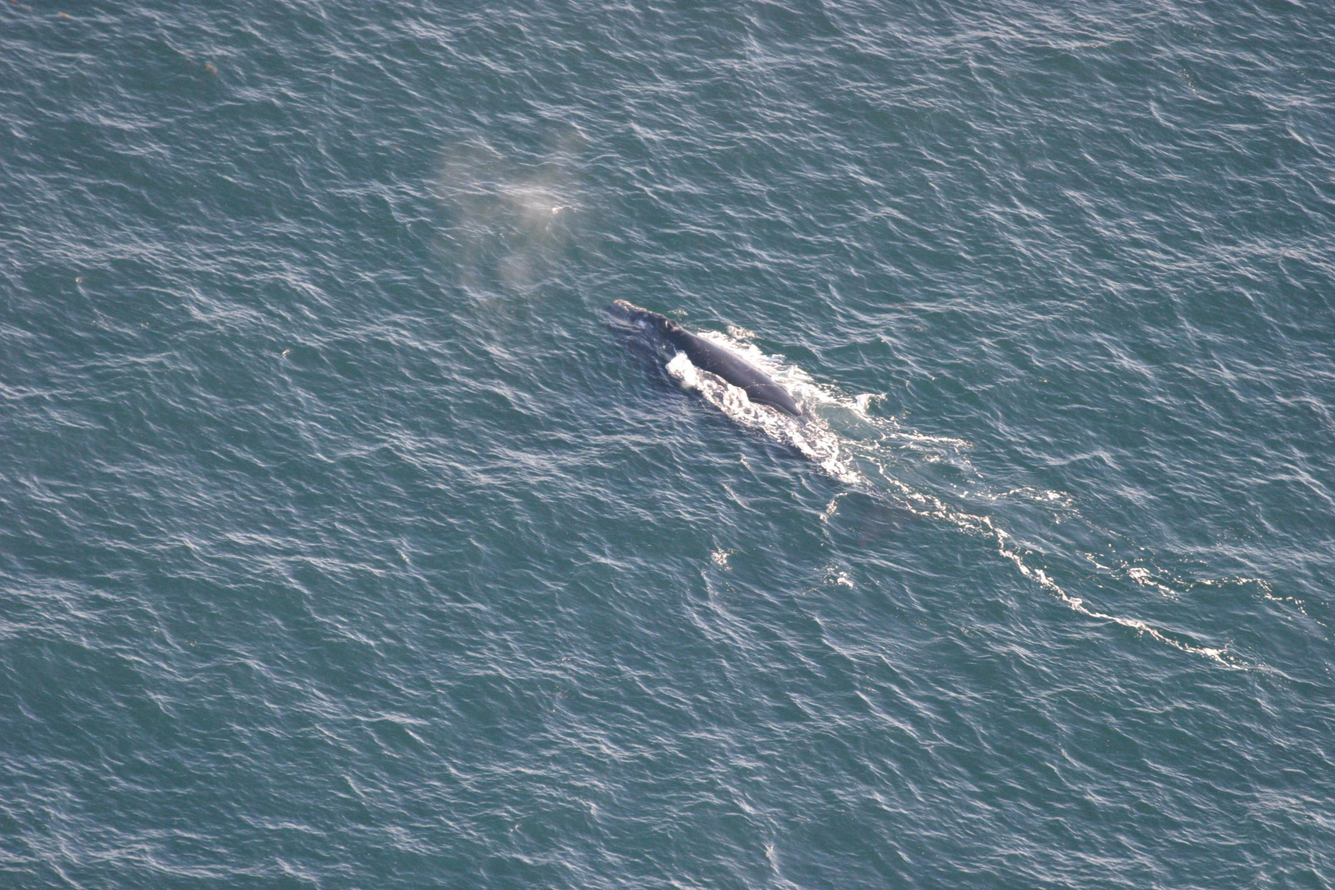whale: (589, 289, 999, 508)
